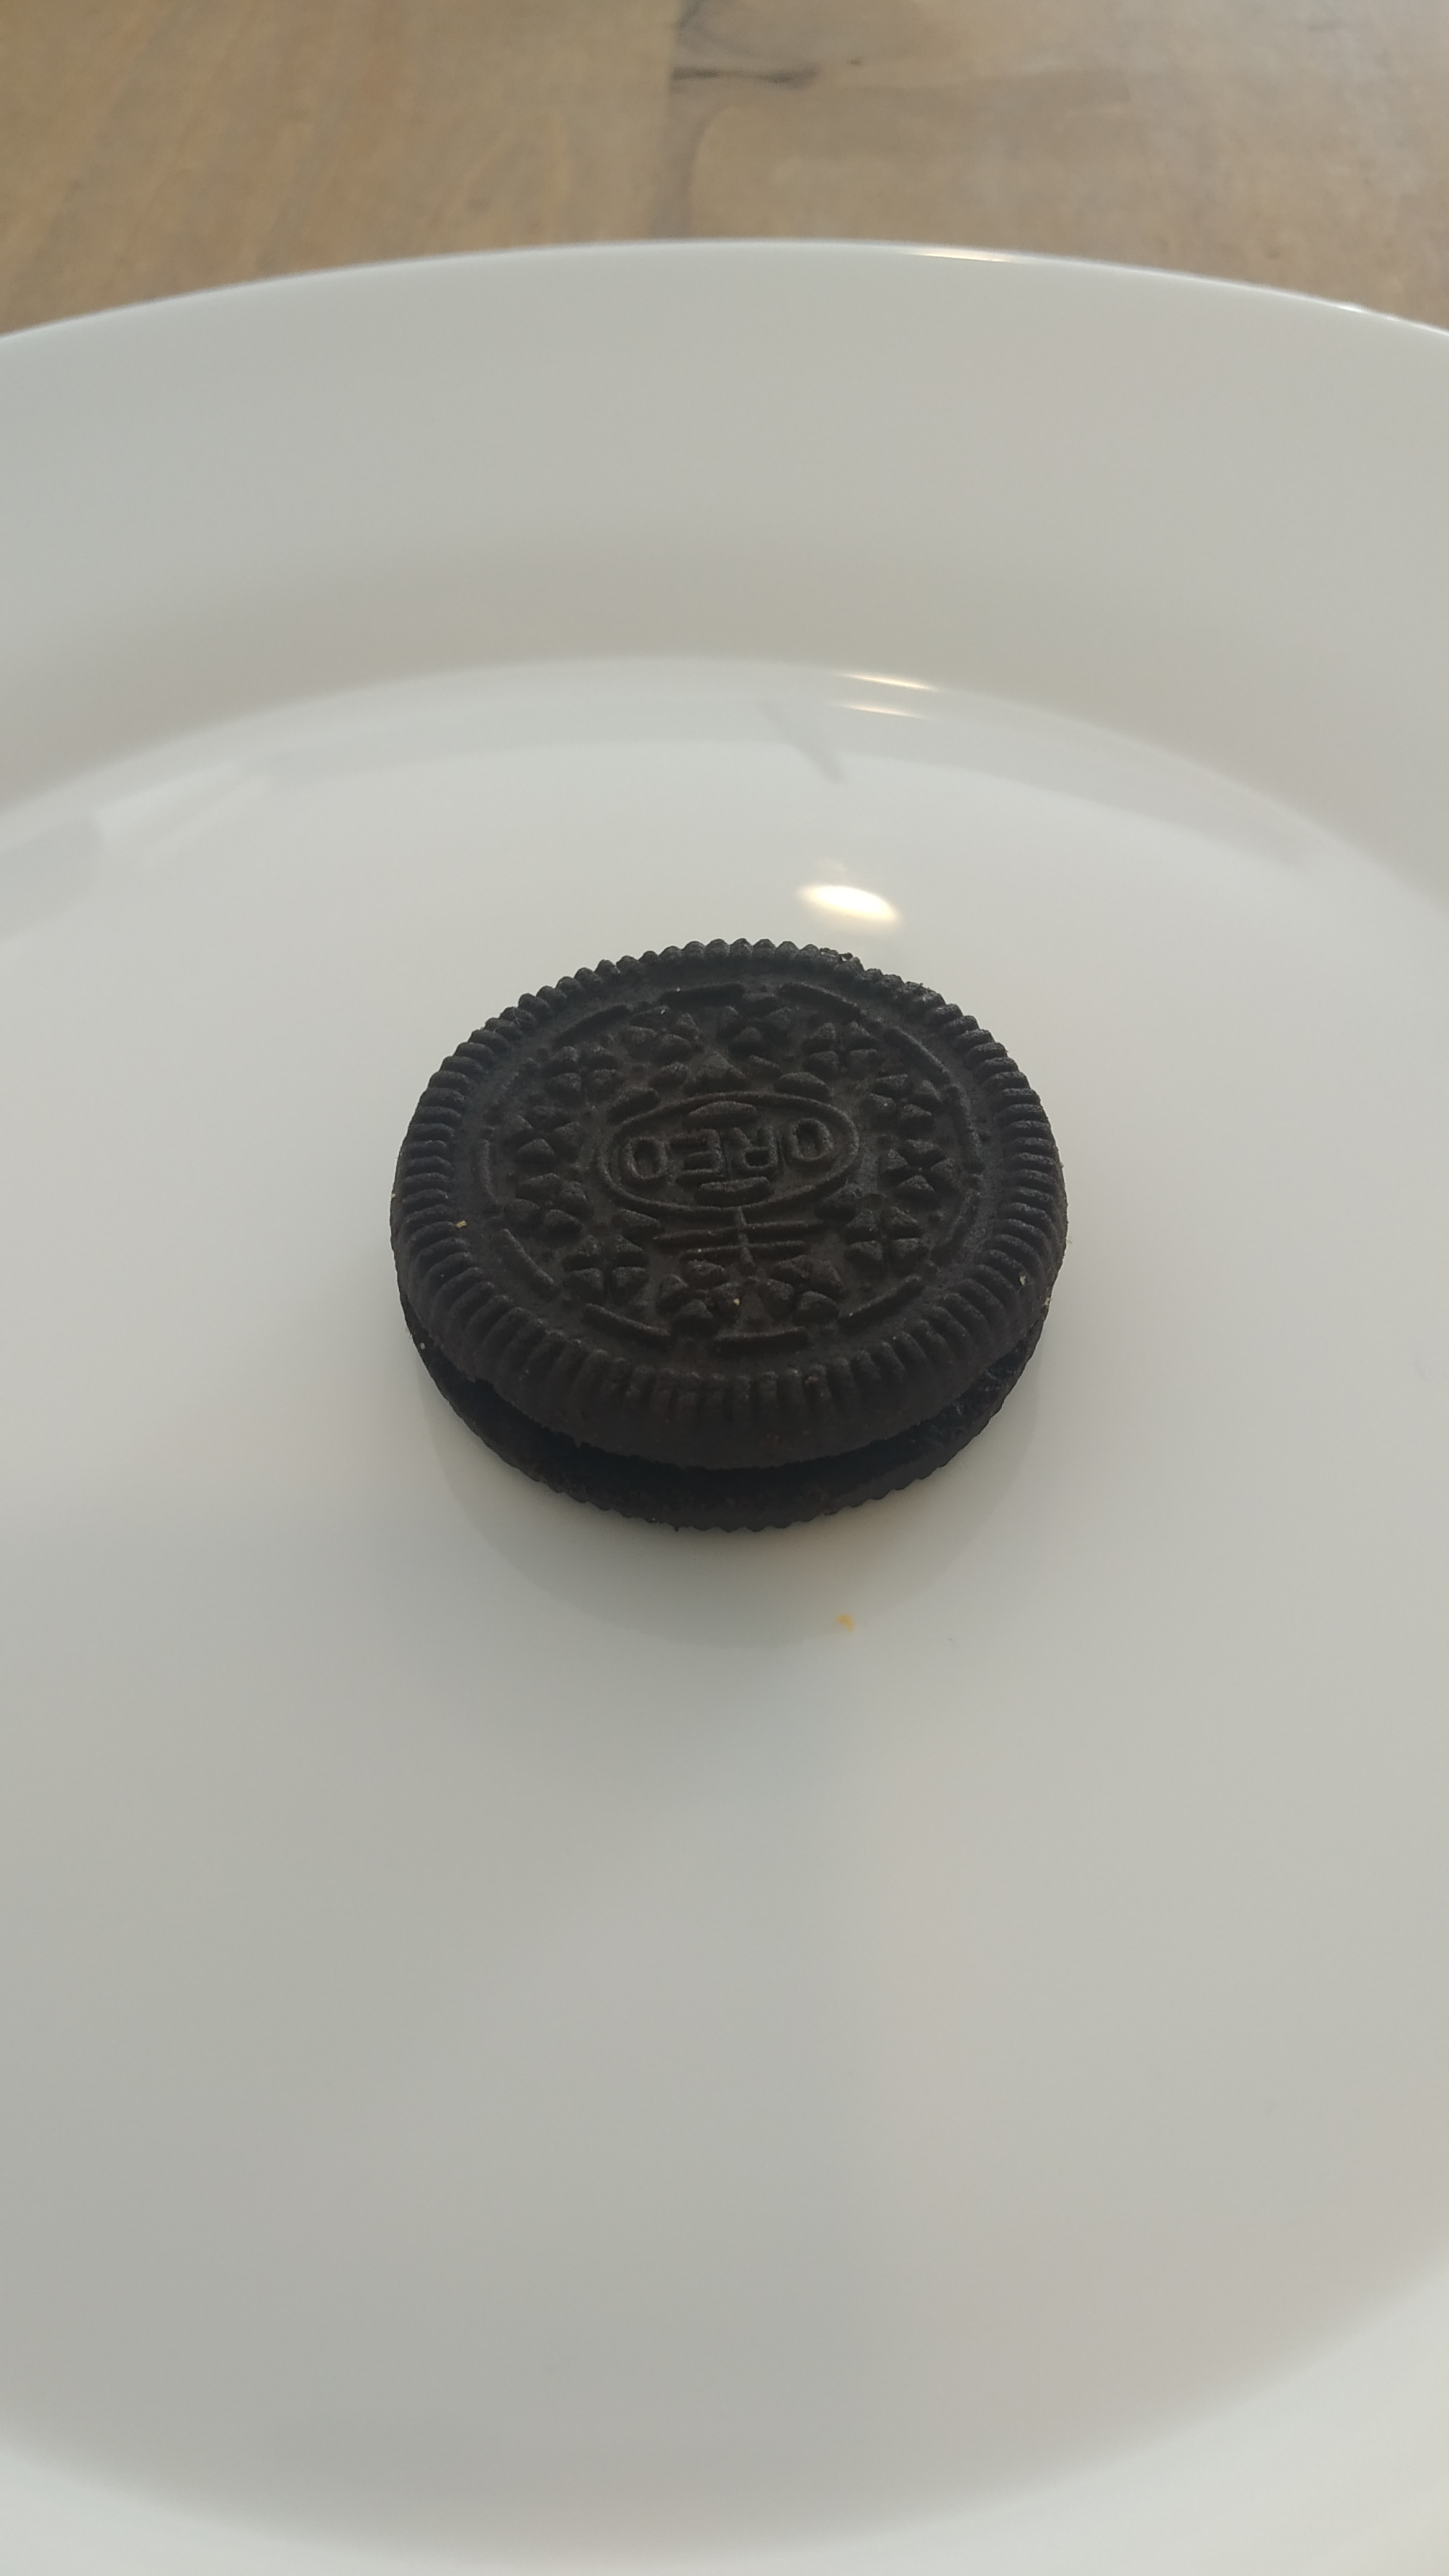oreo: (386, 934, 1069, 1532)
